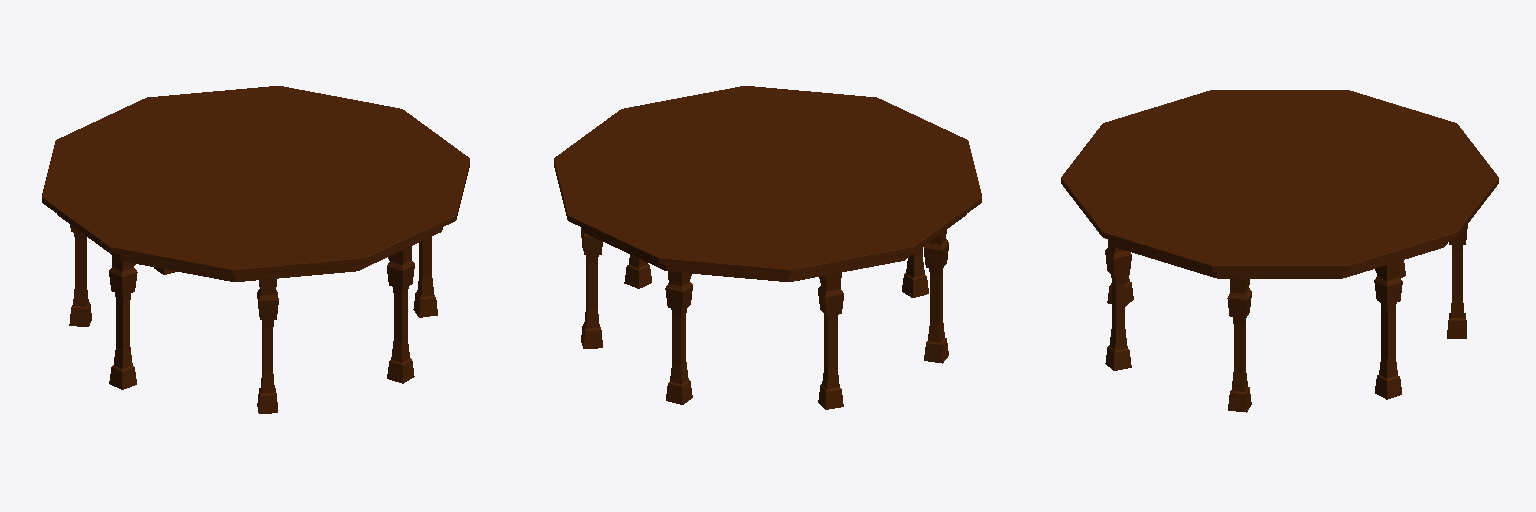
Rendered from KitchenTableRound.obj.
3 renders of one model, left to right at view 1: azimuth 30°, elevation 25°; view 2: azimuth 150°, elevation 25°; view 3: azimuth 270°, elevation 25°, orthographic.
Visible parts, largest first — view 1: KitchenTableRound_Cube.075; view 2: KitchenTableRound_Cube.075; view 3: KitchenTableRound_Cube.075.
Boxes of the visible parts, x1,y1,x2,y2 form: KitchenTableRound_Cube.075: [42, 86, 469, 413]; KitchenTableRound_Cube.075: [554, 86, 981, 409]; KitchenTableRound_Cube.075: [1061, 90, 1498, 412].
Size of the model in its own units: 2.6 by 1.08 by 2.73.